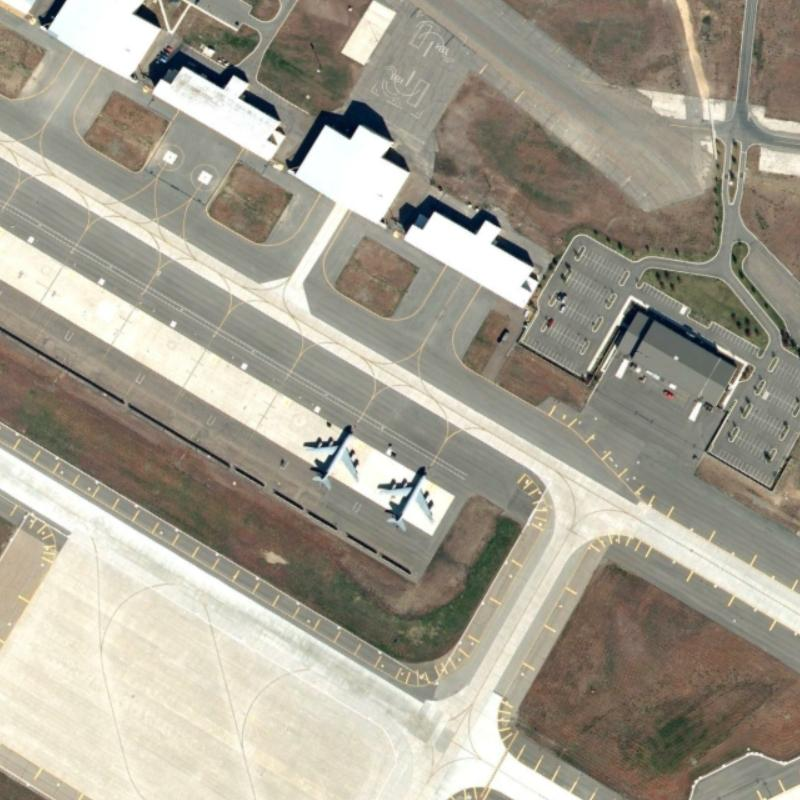A14: (297, 412, 370, 494), (373, 459, 442, 535)
